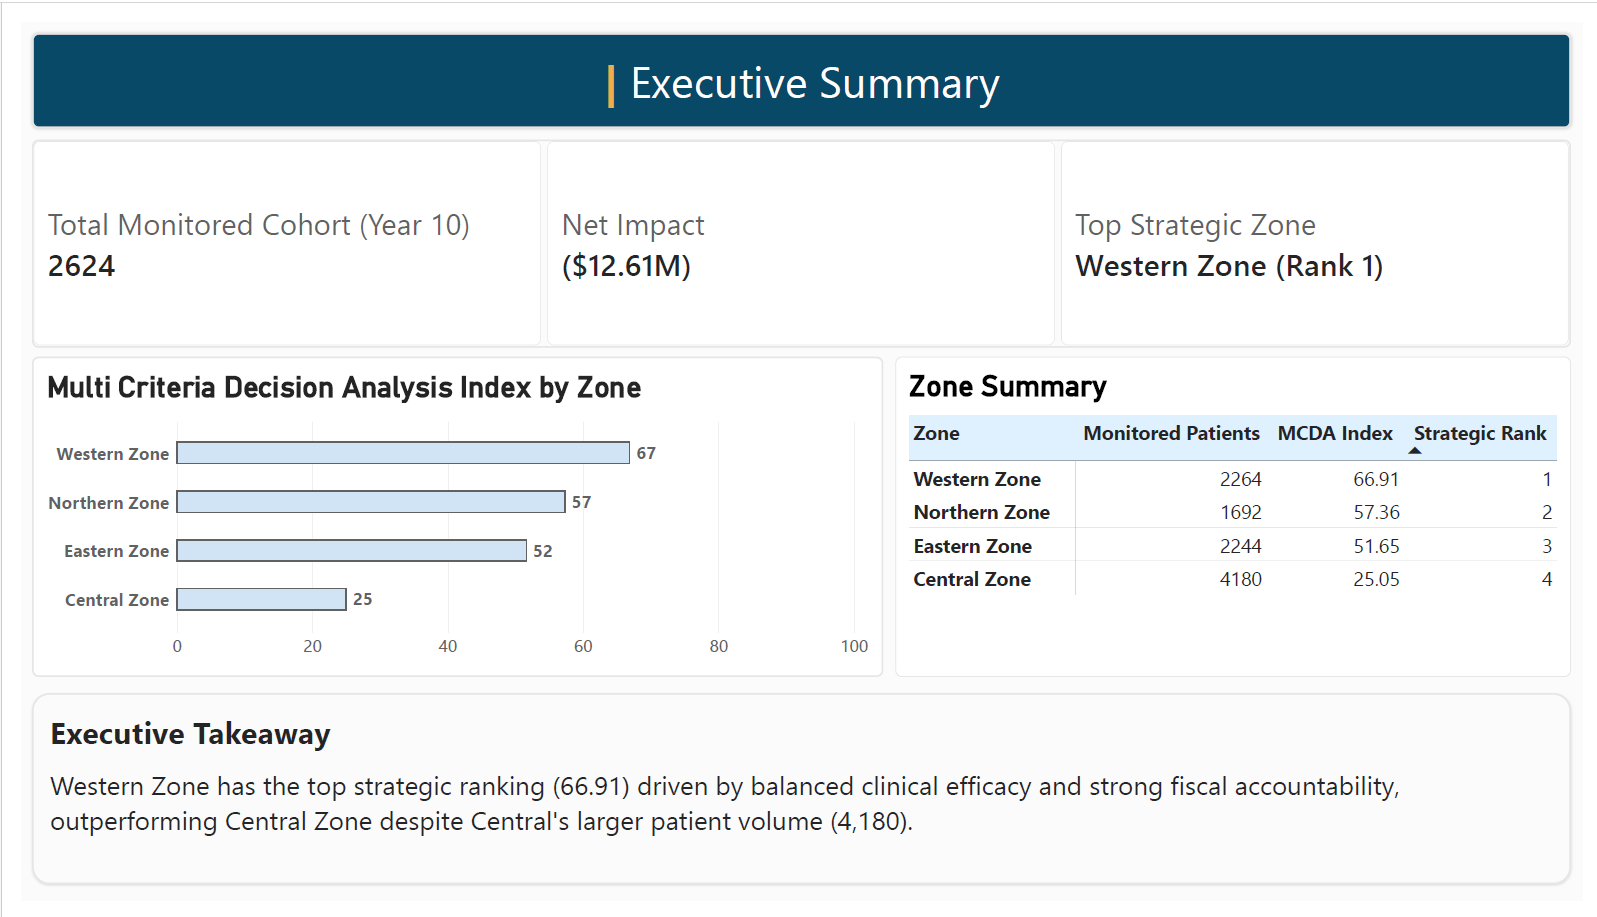

What the dashboard file says about the page in this screenshot:
{"tool":"powerbi","page":{"name":"Executive Summary","canvas":[1920,1080],"ordinal":0},"visuals":[{"type":"cardVisual","fields":{"Data":["ns_health_10yr_financial_forecast.Year 10 Monitored Cohort","Sum(ns_health_10yr_financial_forecast.Net_Fiscal_Impact)","MCDA_Output.TopStrategicZoneDisplay"]},"box":[13,144.3,1892.6,255.3],"z":0},{"type":"clusteredBarChart","fields":{"Category":["MCDA_Output.Zone"],"Y":["Sum(MCDA_Output.Composite_MCDA_Index)"]},"box":[13,410.7,1047.1,394.1],"z":1000},{"type":"pivotTable","title":"Zone Summary","fields":{"Rows":["MCDA_Output.Zone"],"Values":["Avg(MCDA_Output.PatientCohortSize)","Avg(MCDA_Output.Composite_MCDA_Index)","Max(MCDA_Output.StrategicRank)"]},"box":[1074.9,410.7,830.7,394.1],"z":2000},{"type":"textbox","box":[13,825.1,1892.6,235],"z":3000},{"type":"textbox","box":[13,13,1892.6,116.6],"z":4000}]}

Visuals, with their boxes in screenshot pixels (x1, y1, x2, y2), scaled from the page's 1920x1080 canvas onto the 1597x917 screenshot:
cardVisual - ns_health_10yr_financial_forecast.Year 10 Monitored Cohort x Sum(ns_health_10yr_financial_forecast.Net_Fiscal_Impact): <region>11, 123, 1585, 339</region>
clusteredBarChart - MCDA_Output.Zone x Sum(MCDA_Output.Composite_MCDA_Index): <region>11, 349, 882, 683</region>
"Zone Summary" pivotTable: <region>894, 349, 1585, 683</region>
textbox: <region>11, 701, 1585, 900</region>
textbox: <region>11, 11, 1585, 110</region>
